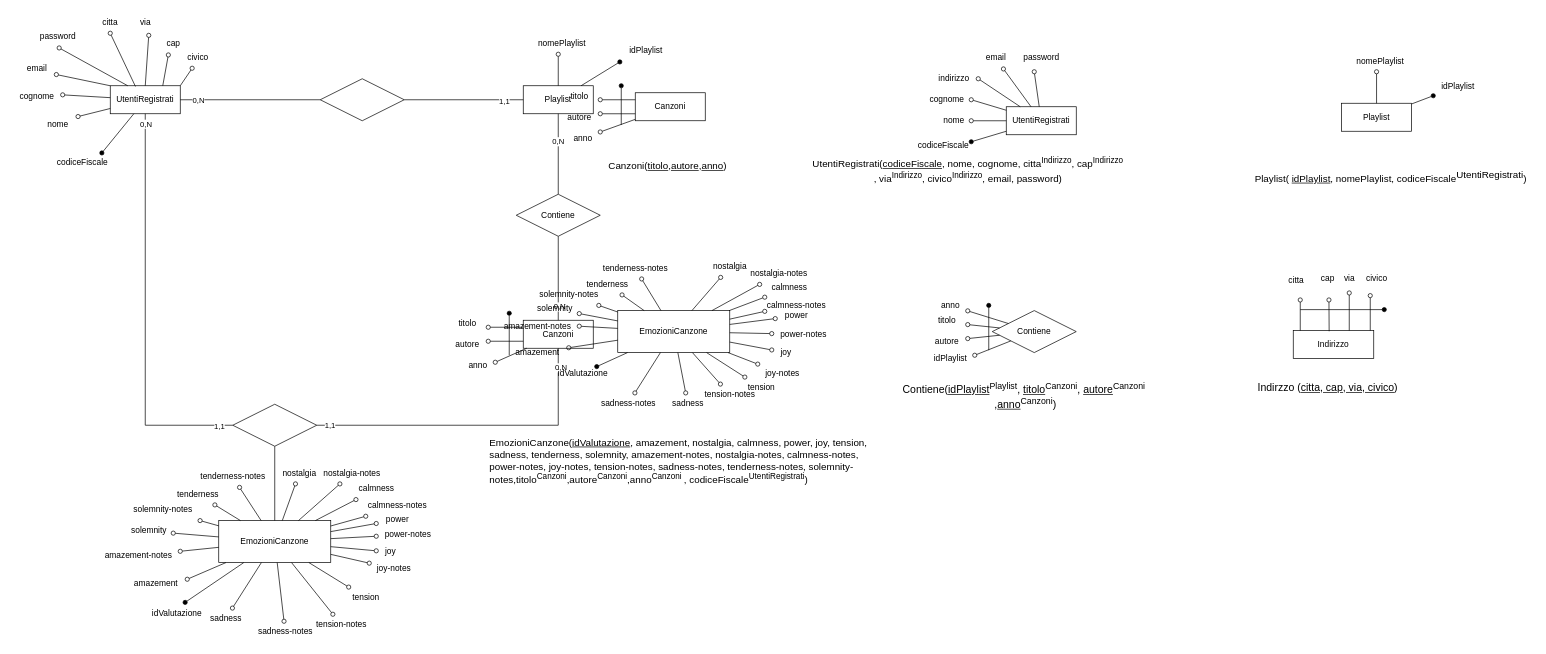
Some shapes in this 1546 by 654 pixel diagram are drawn without their labels. Here are the shapes that lost their labels. From the top down, the centre of each, then its label:
At point (362, 99): "CreaPlaylist".
At point (274, 425): "ValutaEmozioni".
